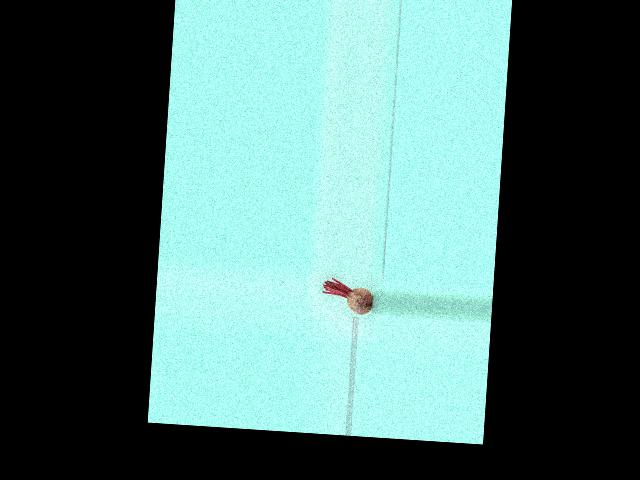beet: (321, 277, 374, 315)
